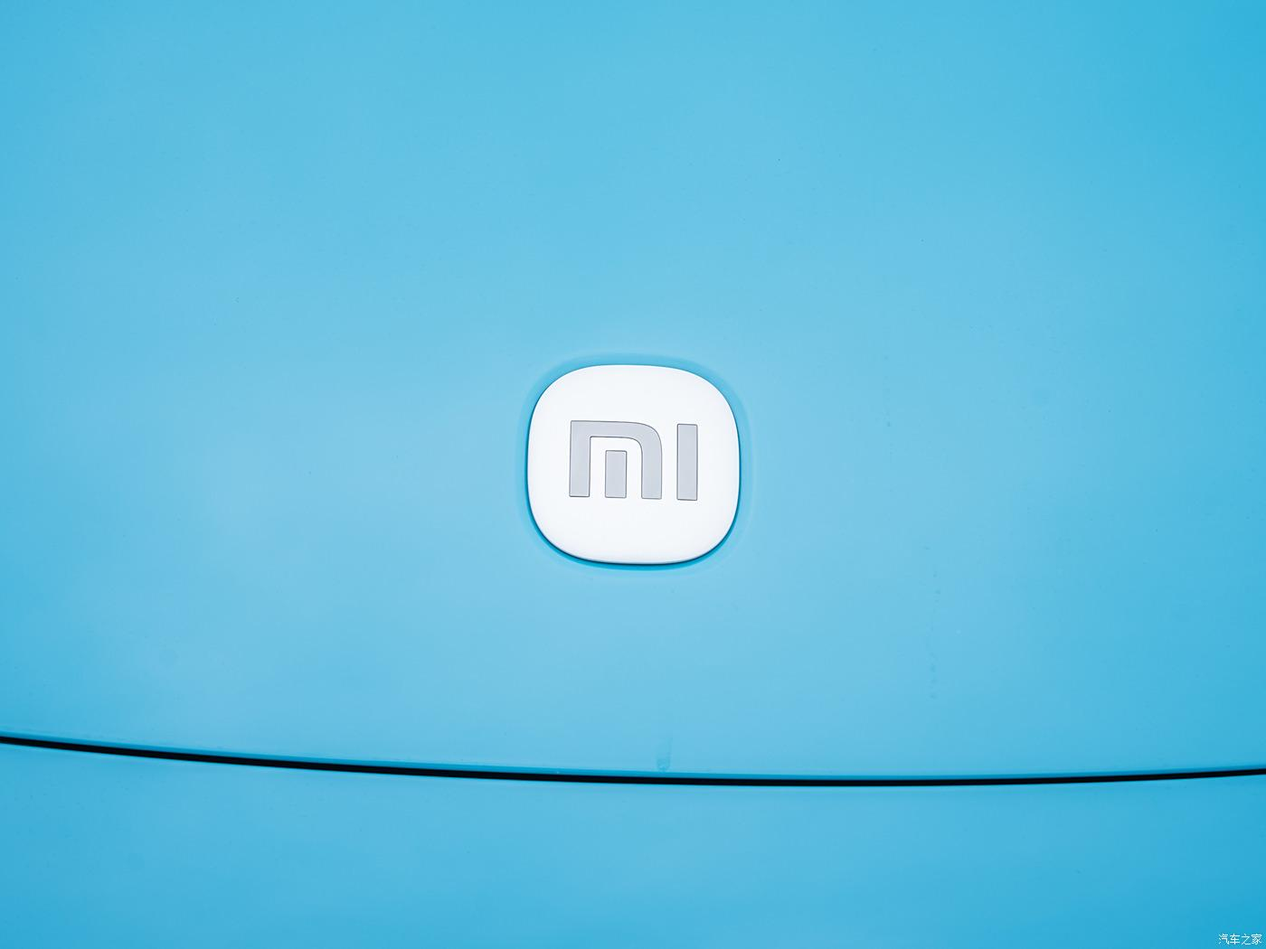XIAOMI: (526, 362, 740, 569)
